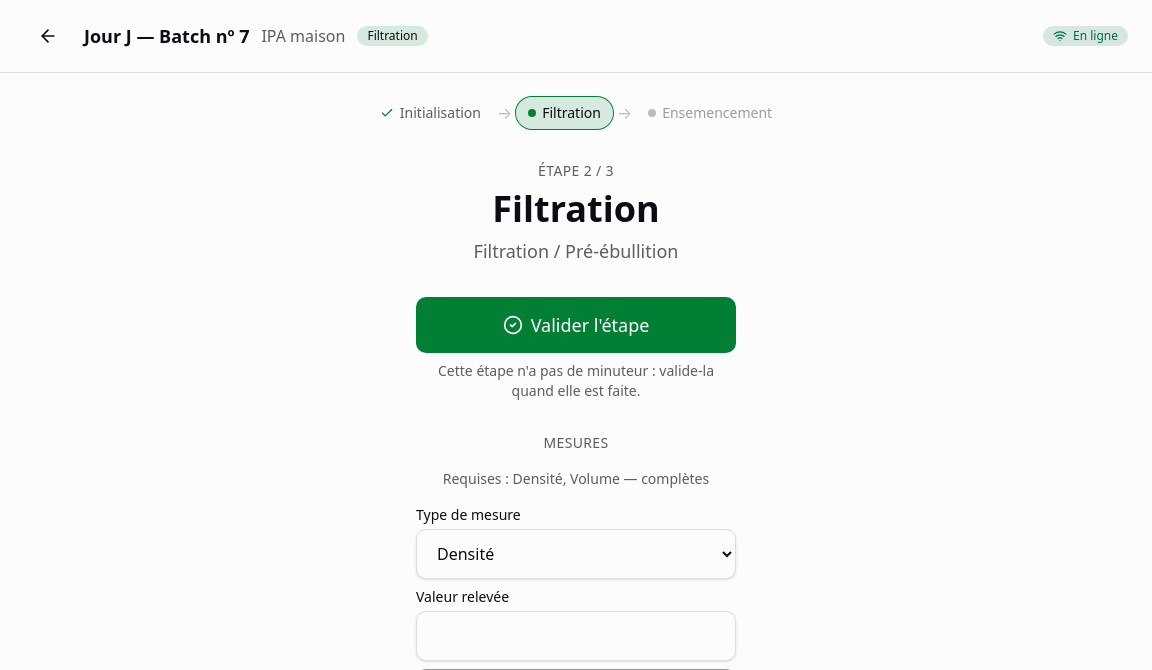
Scenario: saisie de mesures & alertes d'écart Jour J (M4-11) › mesures requises complètes → « Valider » proposé et avance
Click the button "Valider l'étape": {"x": 576, "y": 325} x1=416 y1=297 x2=736 y2=353
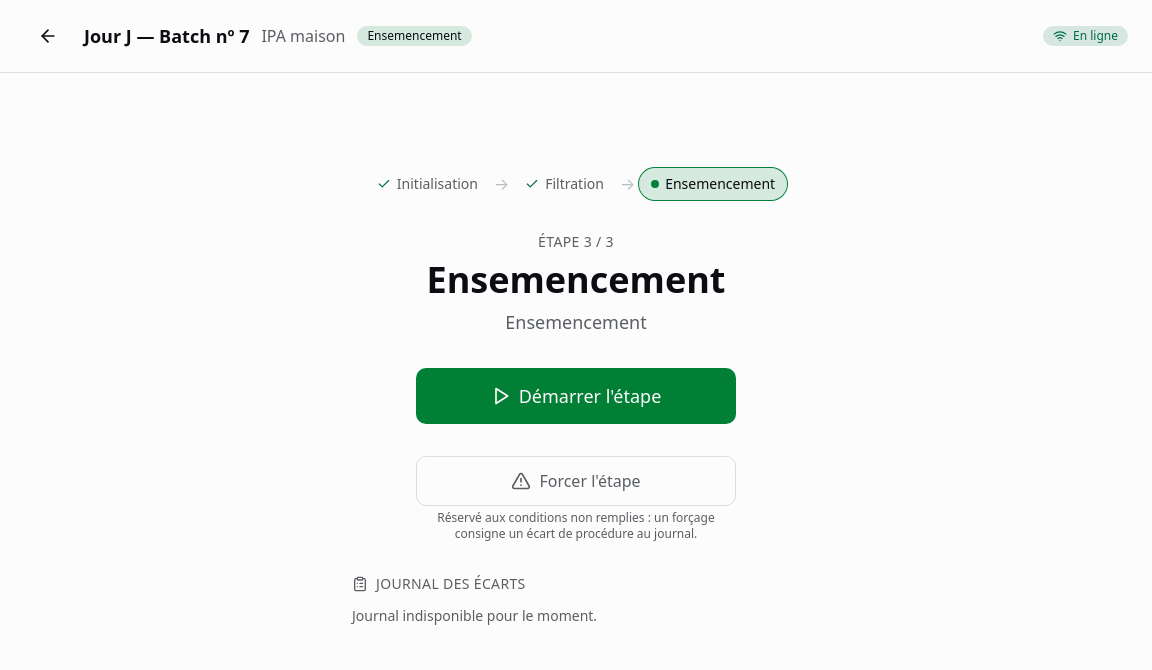
Result: the text "Étape 3 / 3" is shown at x1=538 y1=232 x2=614 y2=252
